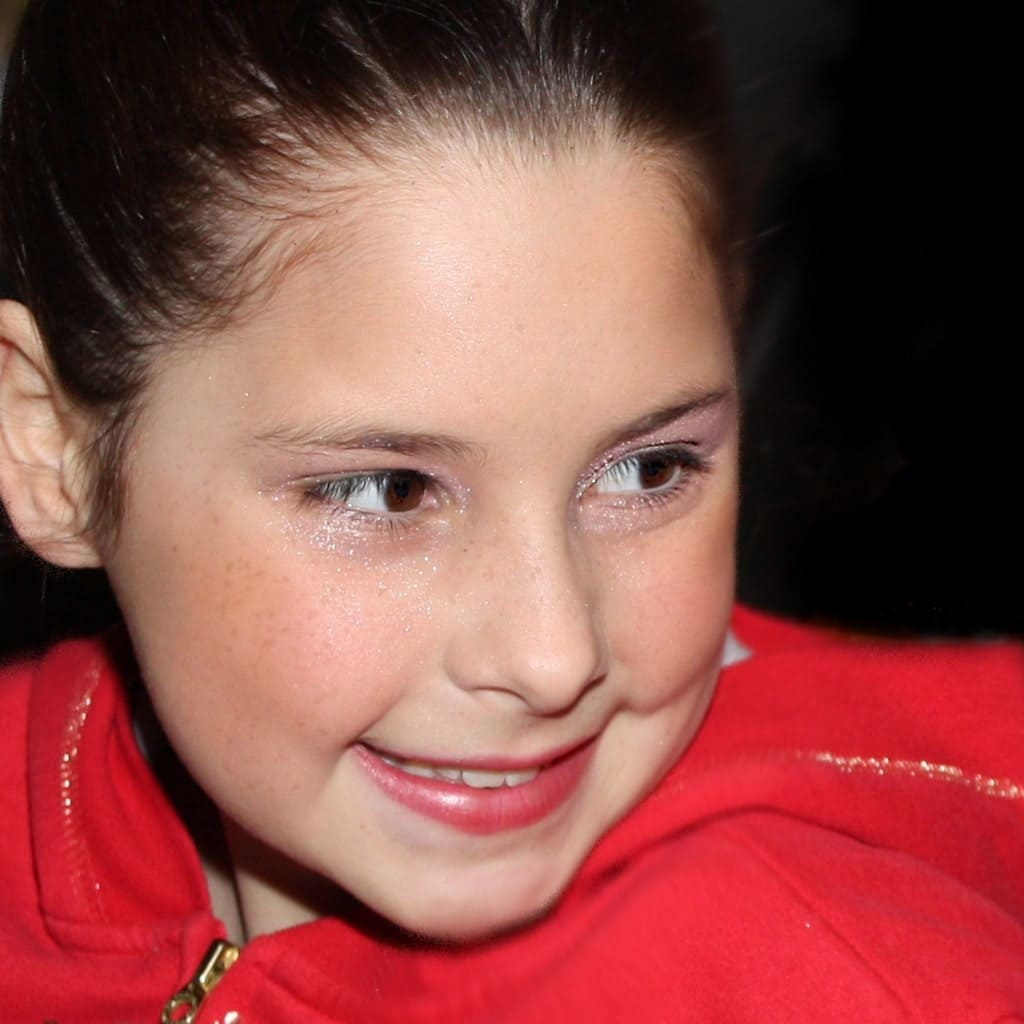without_mask: (194, 267, 738, 877)
